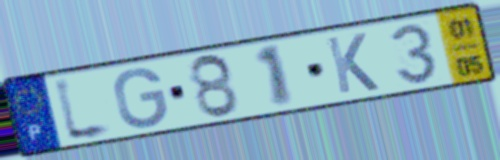1: (254, 41, 296, 111)
3: (384, 21, 441, 86)
8: (187, 52, 241, 122)
G: (111, 65, 171, 130)
K: (322, 31, 382, 97)
L: (50, 72, 119, 147)
